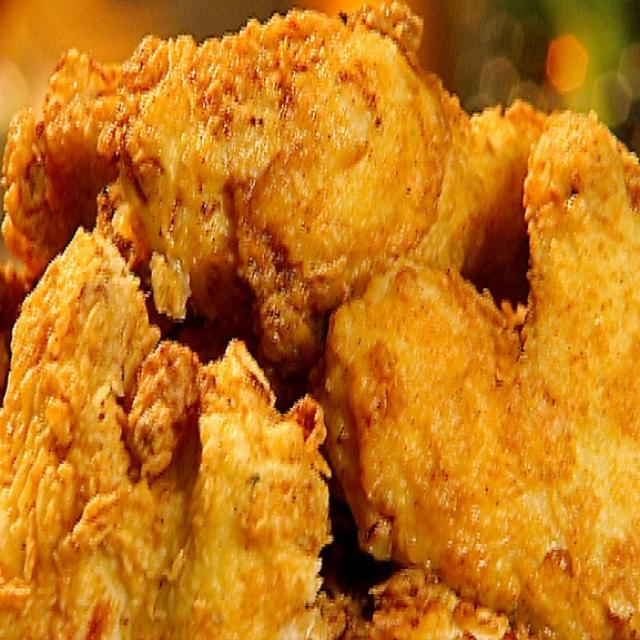鸡肉料理 含炸鸡: (8, 8, 631, 631)
